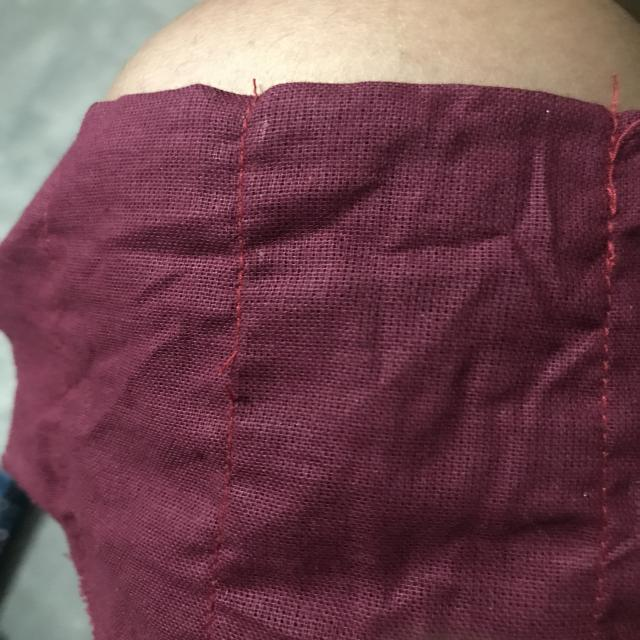broken: (205, 337, 258, 418)
good: (222, 172, 262, 288)
